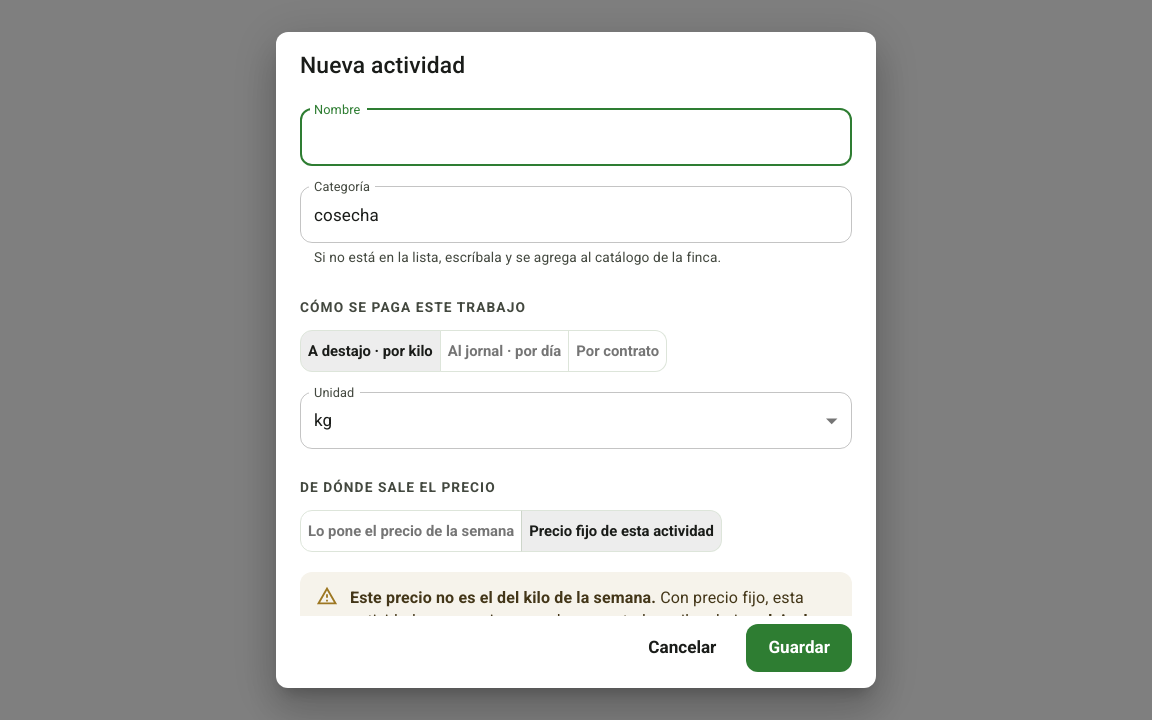
Scenario: ActivityFormDialog — a new activity › validates the name, the category and the price
Clear the dropdown labelled "Categoría": coordinates (561, 215) [309, 195, 813, 234]
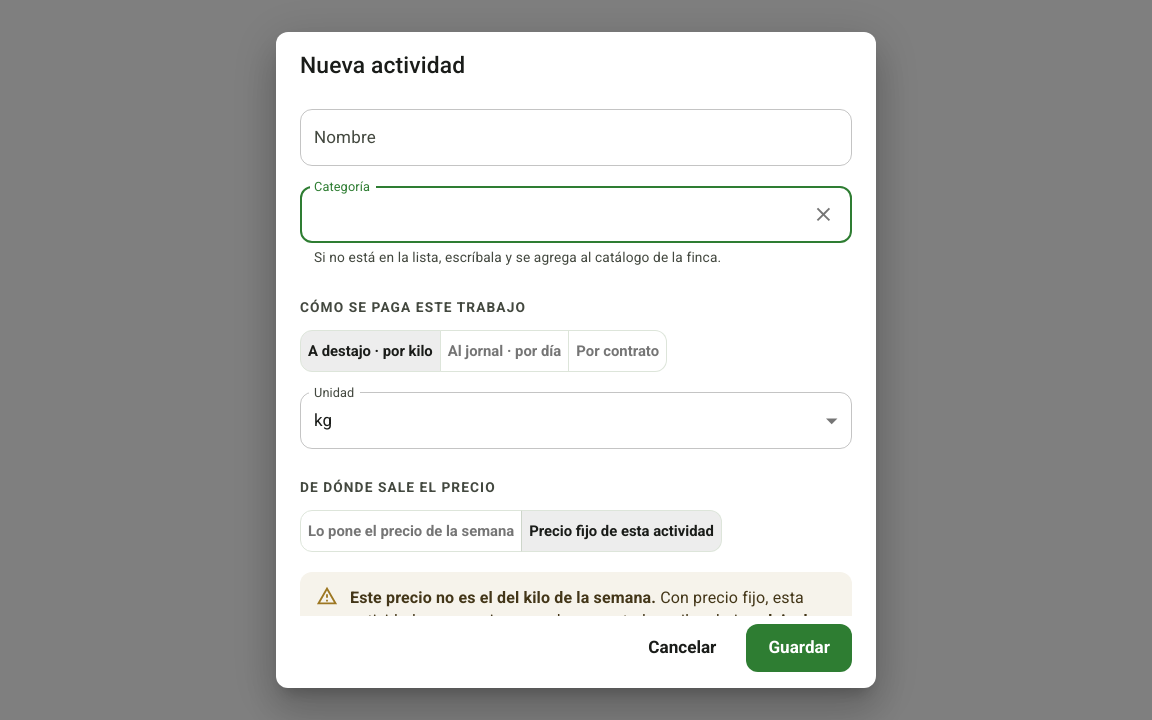
Click the button "Guardar": coordinates (799, 648) [746, 624, 852, 672]
(page scrolled)
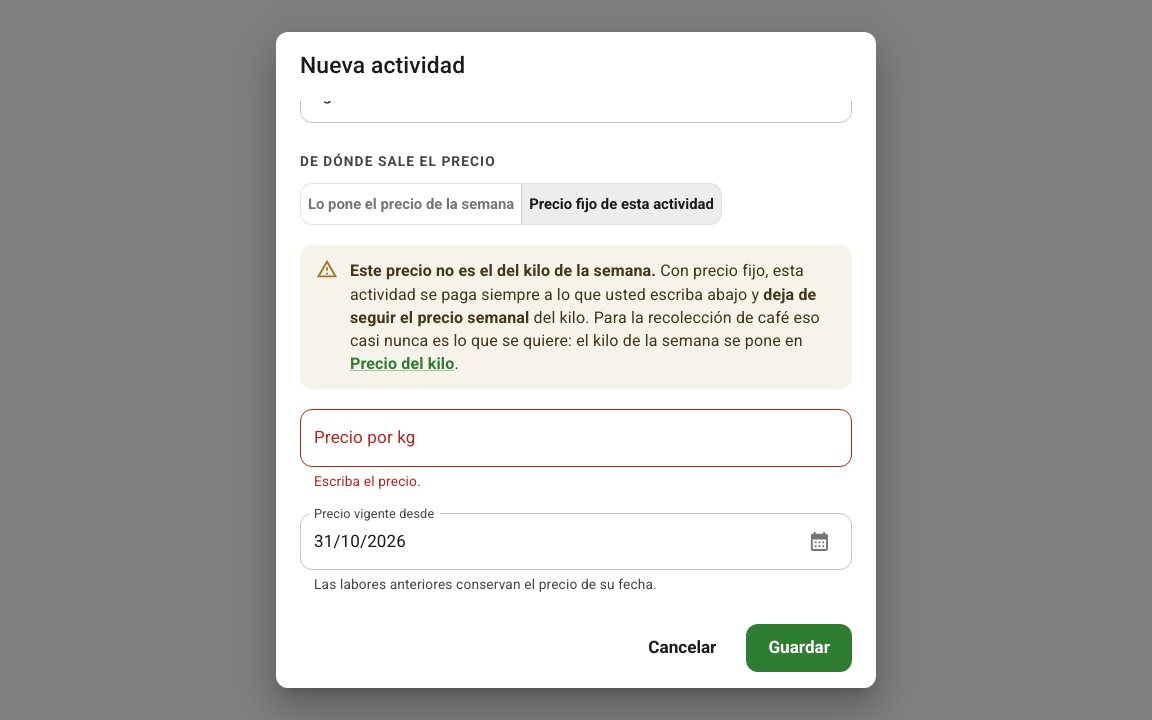
Now the text "Escriba el precio." is shown, box [314, 473, 421, 489]
In the field labelled "Precio por kg": coordinates (576, 438) [300, 409, 852, 467], type "0"
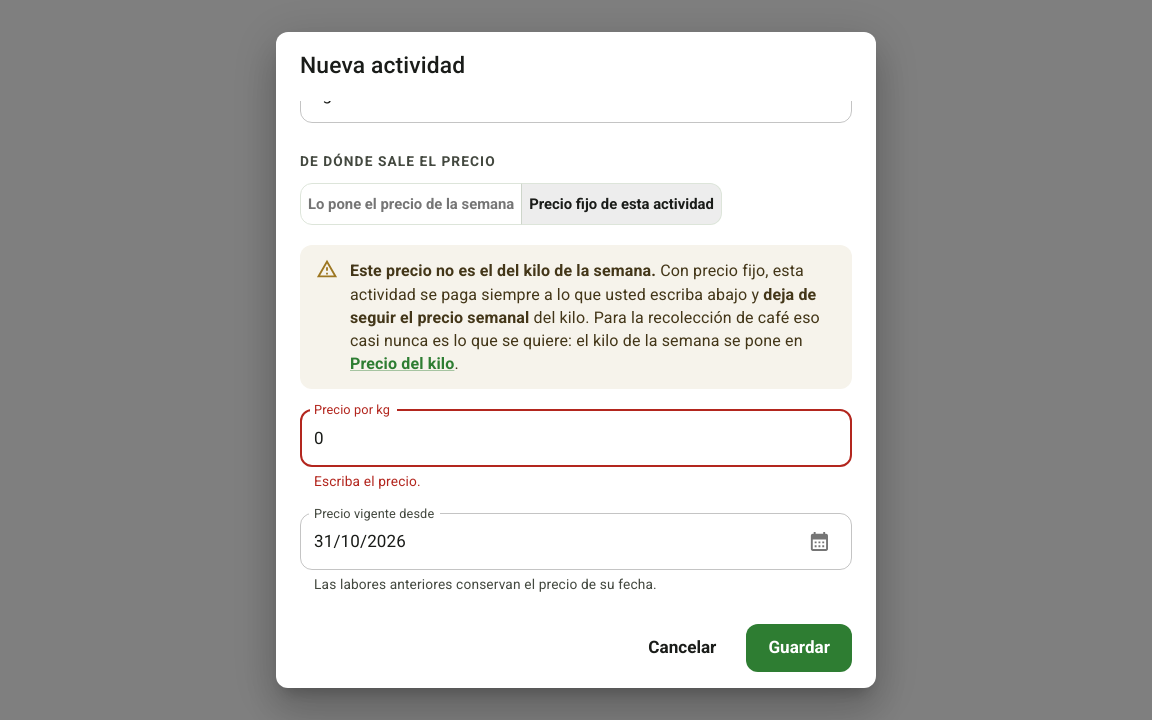
Click the button "Guardar": coordinates (799, 648) [746, 624, 852, 672]
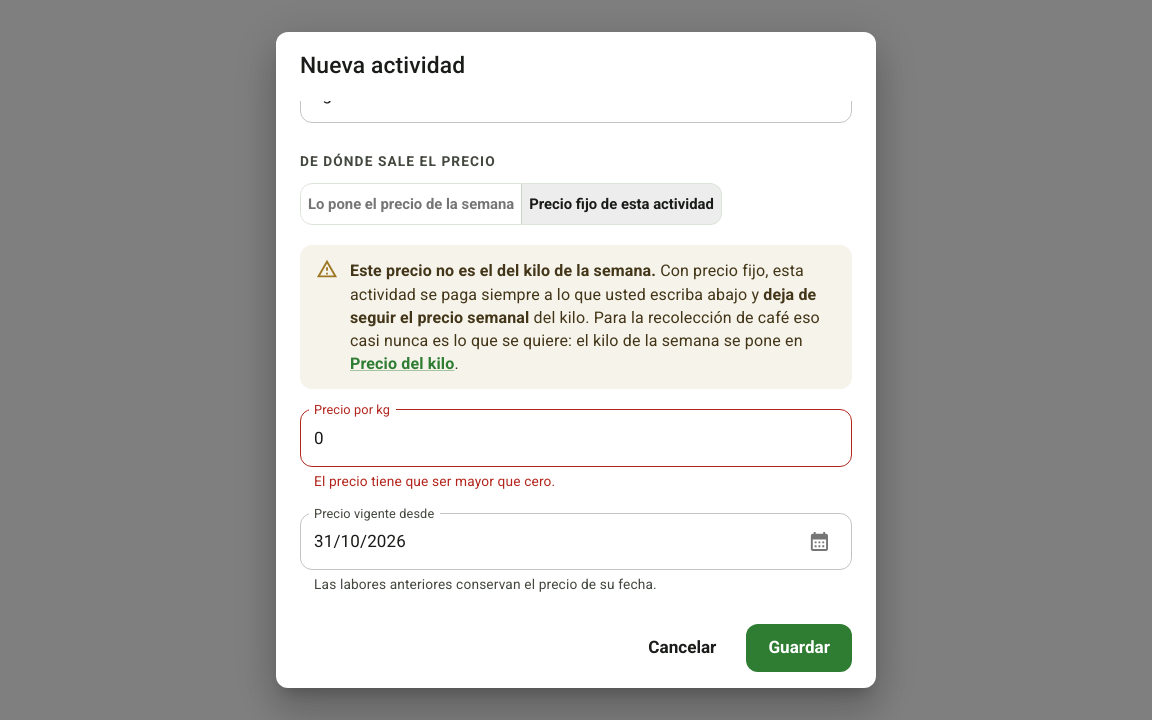
Now the text "El precio tiene que ser mayor que cero." is shown, box [314, 473, 555, 489]
